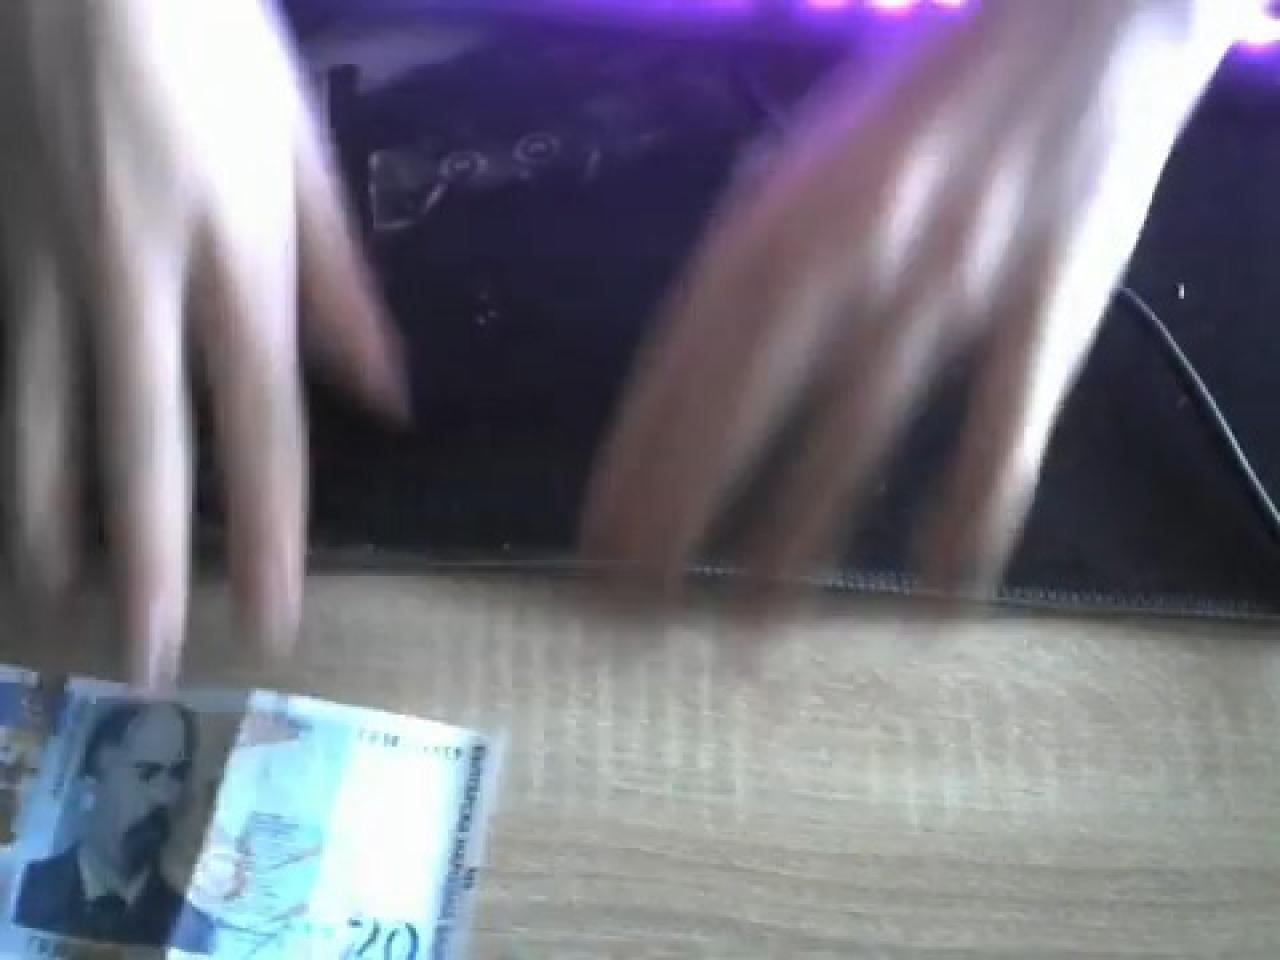20leva: (11, 693, 214, 952)
